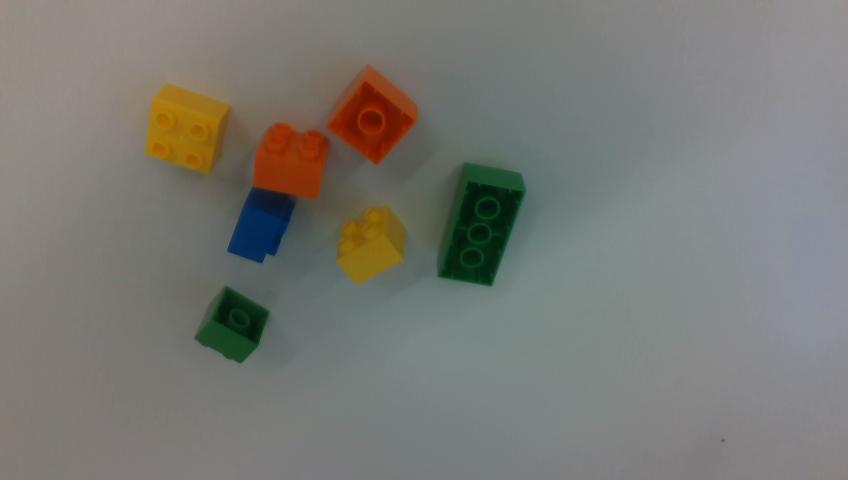2x2_blue: (228, 187, 294, 262)
2x2_green: (195, 287, 269, 362)
2x2_orange: (326, 66, 417, 163), (254, 123, 329, 198)
2x2_yellow: (147, 84, 228, 173), (336, 207, 405, 283)
4x2_green: (439, 164, 524, 284)
